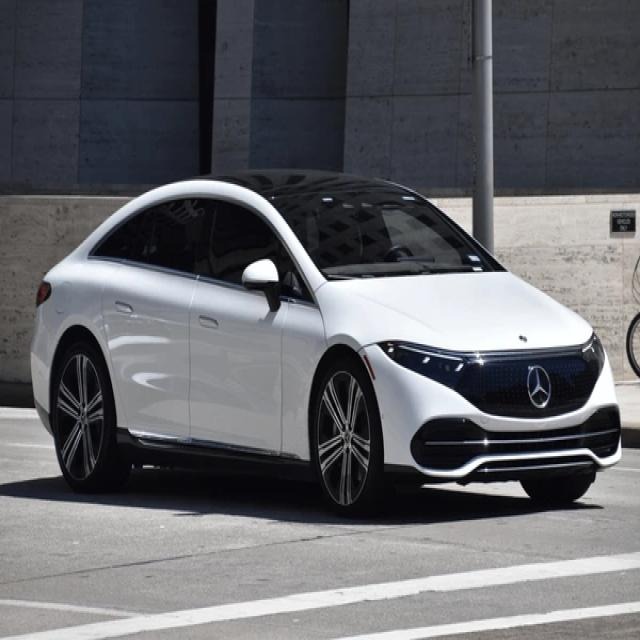mercedes: (525, 365, 557, 410)
